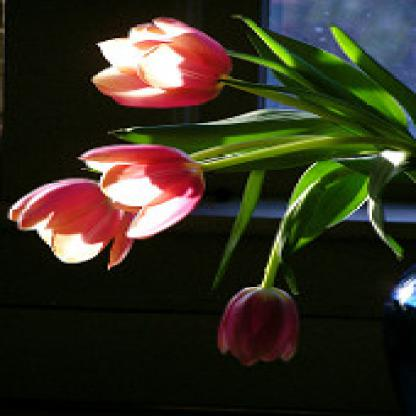TULIP: (18, 12, 405, 377)
